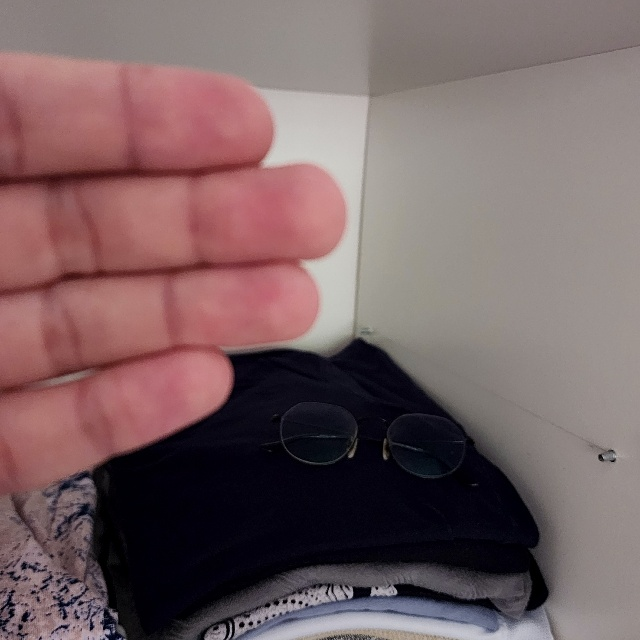glasses: (259, 391, 476, 487)
